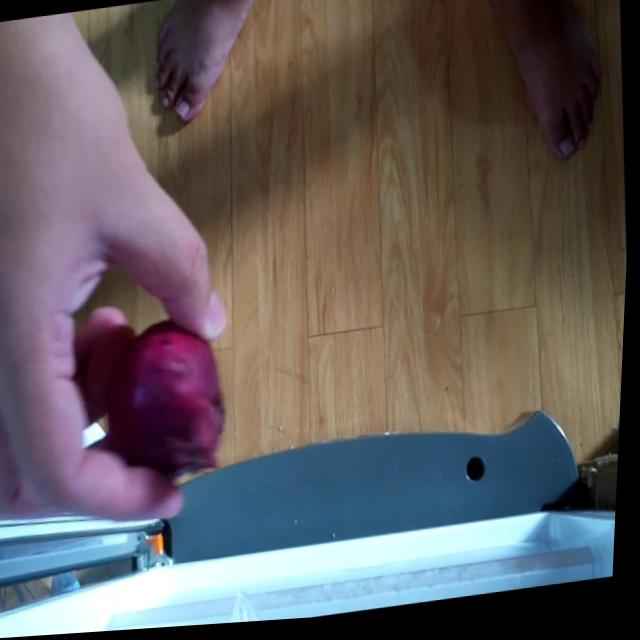onion: (108, 312, 237, 504)
